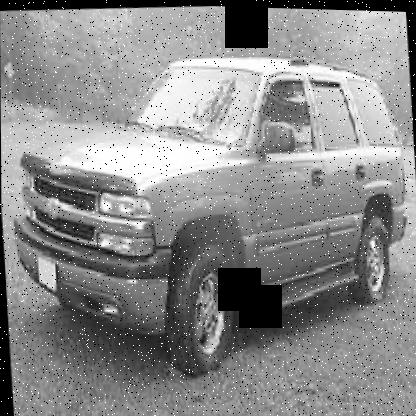not_emergency: (6, 34, 415, 394)
